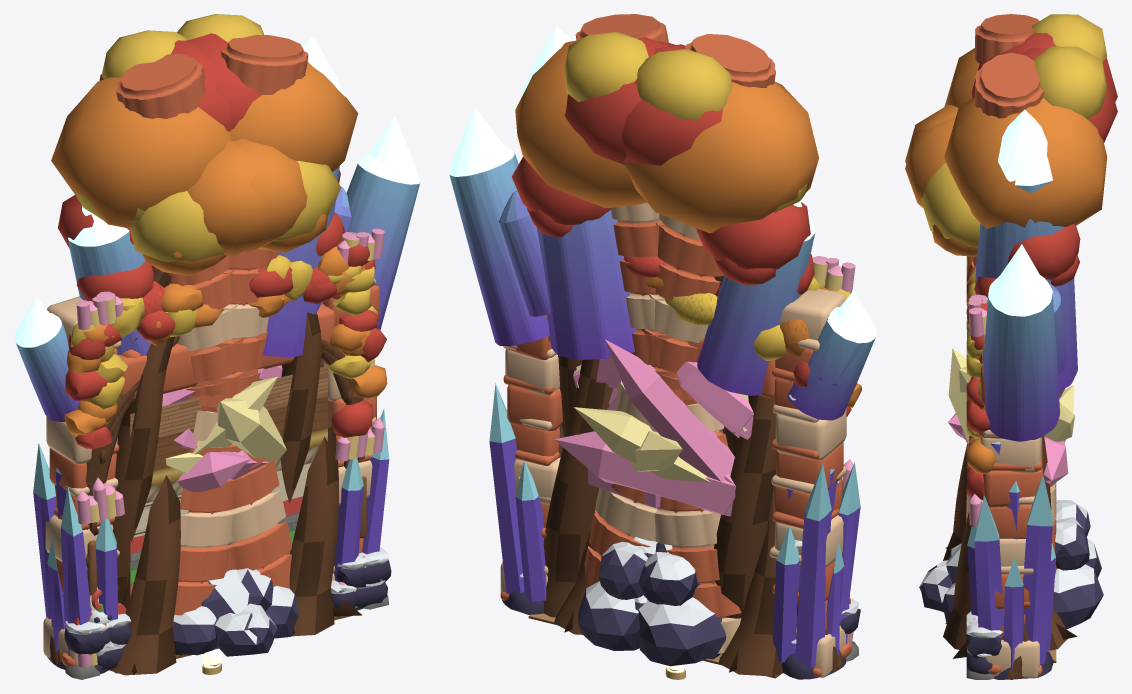
Rendered from lobby_portals_pass10.fbx.
The picture shows the model from 3 angles, left to right: view 1: azimuth 30°, elevation 25°; view 2: azimuth 150°, elevation 25°; view 3: azimuth 270°, elevation 25°; orthographic projection. The views are drawn at different scales.
Parts seen in each view (by area): view 1: bw_scn_lantern_grove_trunk_e__BW_Backdrop, bw_scn_lantern_grove_trunk_w__BW_Backdrop, bw_arch_lantern_grove__BW_Backdrop, bw_scn_sugarloaf_tower_e__BW_Backdrop, bw_scn_lantern_grove_trunk_w__BW_Bark_VC, bw_scn_sugarloaf_tower_w__BW_Backdrop, bw_arch_aurora_archipelago__BW_Backdrop, bw_scn_aurora_crown__BW_Crown_Crystal, bw_arch_sugarloaf_canyon__BW_Backdrop, bw_scn_lantern_grove_trunk_e__BW_Bark_VC, bw_portal_surface_aurora_archipelago__BW_Atlas, bw_scn_aurora_crown__Glow_Tips (+8 smaller); view 2: bw_scn_aurora_crown__BW_Crown_Crystal, bw_scn_lantern_grove_trunk_e__BW_Backdrop, bw_scn_lantern_grove_trunk_w__BW_Backdrop, bw_arch_sugarloaf_canyon__BW_Backdrop, bw_scn_sugarloaf_crystals_e__Glow_Crystal, bw_arch_aurora_archipelago__BW_Backdrop, bw_scn_sugarloaf_tower_e__BW_Backdrop, bw_scn_lantern_grove_trunk_w__BW_Bark_VC, bw_scn_sugarloaf_tower_w__BW_Backdrop, bw_scn_lantern_grove_trunk_e__BW_Bark_VC, bw_scn_aurora_rocks_e__BW_Rock_VC, bw_scn_aurora_rocks_w__BW_Rock_VC (+4 smaller); view 3: bw_scn_lantern_grove_trunk_w__BW_Backdrop, bw_scn_aurora_crown__BW_Crown_Crystal, bw_scn_lantern_grove_trunk_e__BW_Backdrop, bw_arch_aurora_archipelago__BW_Backdrop, bw_arch_sugarloaf_canyon__BW_Backdrop, bw_scn_aurora_crown__Glow_Tips, bw_scn_aurora_rocks_w__BW_Rock_VC, bw_scn_sugarloaf_tower_w__BW_Backdrop, bw_arch_lantern_grove__BW_Backdrop, bw_scn_lantern_grove_trunk_e__BW_Bark_VC, bw_scn_aurora_rocks_e__BW_Rock_VC, bw_scn_sugarloaf_tower_e__BW_Backdrop (+6 smaller).
Boxes of the visible parts, x1=… form: bw_scn_lantern_grove_trunk_e__BW_Backdrop: x1=51, y1=14, x2=344, y2=261; bw_scn_lantern_grove_trunk_w__BW_Backdrop: x1=58, y1=30, x2=358, y2=301; bw_arch_lantern_grove__BW_Backdrop: x1=64, y1=233, x2=387, y2=449; bw_scn_sugarloaf_tower_e__BW_Backdrop: x1=115, y1=53, x2=291, y2=588; bw_scn_lantern_grove_trunk_w__BW_Bark_VC: x1=109, y1=269, x2=203, y2=675; bw_scn_sugarloaf_tower_w__BW_Backdrop: x1=174, y1=34, x2=308, y2=649; bw_arch_aurora_archipelago__BW_Backdrop: x1=33, y1=338, x2=391, y2=673; bw_scn_aurora_crown__BW_Crown_Crystal: x1=16, y1=163, x2=419, y2=421; bw_arch_sugarloaf_canyon__BW_Backdrop: x1=43, y1=231, x2=384, y2=667; bw_scn_lantern_grove_trunk_e__BW_Bark_VC: x1=280, y1=312, x2=361, y2=636; bw_portal_surface_aurora_archipelago__BW_Atlas: x1=130, y1=366, x2=327, y2=596; bw_scn_aurora_crown__Glow_Tips: x1=14, y1=36, x2=420, y2=347; bw_scn_aurora_crown__BW_Crown_Crystal: x1=449, y1=97, x2=875, y2=420; bw_scn_lantern_grove_trunk_e__BW_Backdrop: x1=512, y1=31, x2=818, y2=237; bw_scn_lantern_grove_trunk_w__BW_Backdrop: x1=515, y1=40, x2=814, y2=397; bw_arch_sugarloaf_canyon__BW_Backdrop: x1=500, y1=261, x2=855, y2=677; bw_scn_sugarloaf_crystals_e__Glow_Crystal: x1=554, y1=339, x2=753, y2=516; bw_arch_aurora_archipelago__BW_Backdrop: x1=489, y1=381, x2=860, y2=679; bw_scn_sugarloaf_tower_e__BW_Backdrop: x1=584, y1=34, x2=775, y2=585; bw_scn_lantern_grove_trunk_w__BW_Bark_VC: x1=713, y1=275, x2=782, y2=676; bw_scn_sugarloaf_tower_w__BW_Backdrop: x1=575, y1=14, x2=741, y2=657; bw_scn_lantern_grove_trunk_e__BW_Bark_VC: x1=543, y1=355, x2=612, y2=634; bw_scn_aurora_rocks_e__BW_Rock_VC: x1=634, y1=542, x2=726, y2=666; bw_scn_aurora_rocks_w__BW_Rock_VC: x1=578, y1=537, x2=720, y2=659; bw_scn_lantern_grove_trunk_w__BW_Backdrop: x1=905, y1=14, x2=1117, y2=247; bw_scn_aurora_crown__BW_Crown_Crystal: x1=975, y1=180, x2=1077, y2=441; bw_scn_lantern_grove_trunk_e__BW_Backdrop: x1=905, y1=46, x2=1117, y2=297; bw_arch_aurora_archipelago__BW_Backdrop: x1=966, y1=443, x2=1055, y2=679; bw_arch_sugarloaf_canyon__BW_Backdrop: x1=968, y1=299, x2=1043, y2=678; bw_scn_aurora_crown__Glow_Tips: x1=988, y1=109, x2=1052, y2=316; bw_scn_aurora_rocks_w__BW_Rock_VC: x1=919, y1=517, x2=1103, y2=629; bw_scn_sugarloaf_tower_w__BW_Backdrop: x1=966, y1=52, x2=1056, y2=523; bw_arch_lantern_grove__BW_Backdrop: x1=966, y1=256, x2=996, y2=500; bw_scn_lantern_grove_trunk_e__BW_Bark_VC: x1=943, y1=435, x2=1077, y2=658; bw_scn_aurora_rocks_e__BW_Rock_VC: x1=921, y1=499, x2=1101, y2=622; bw_scn_sugarloaf_tower_e__BW_Backdrop: x1=966, y1=14, x2=1056, y2=578.
Size of the model in its own units: 2024 by 3037 by 952.
54 materials, 23 textured.
